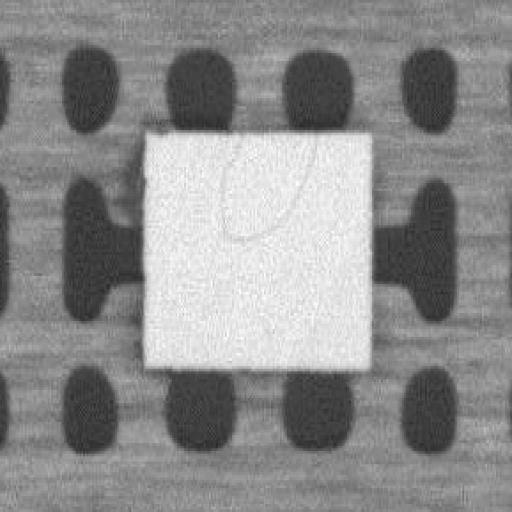DIE_CRACK: (218, 132, 317, 238)
